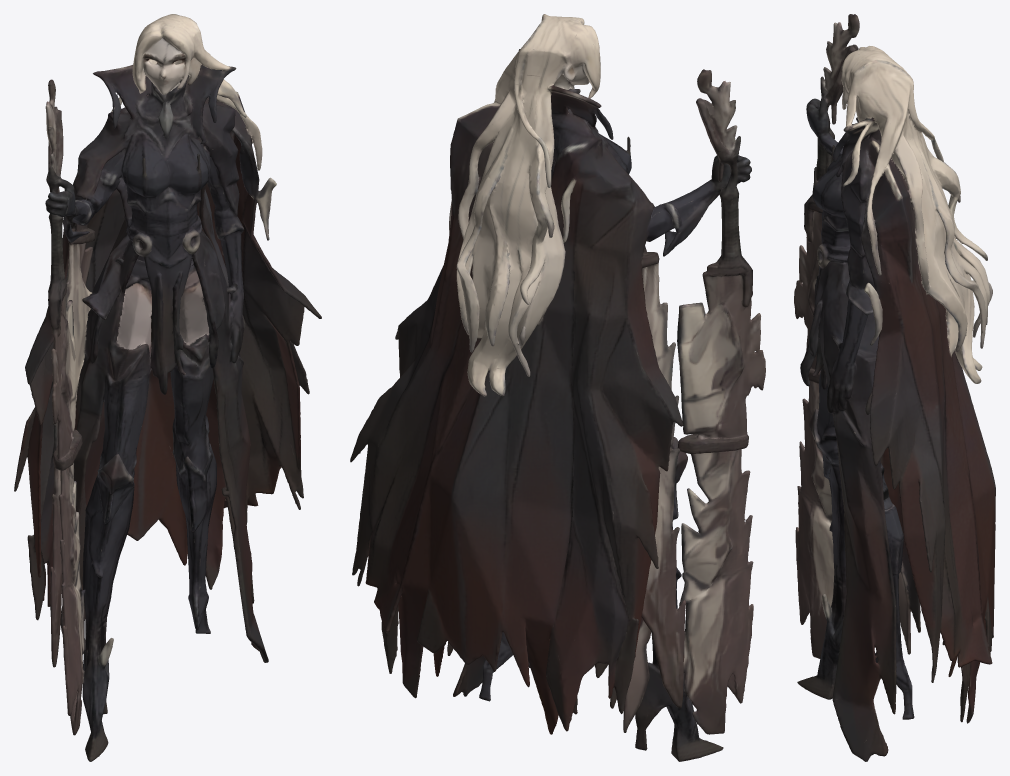
The model's file is vampwarrior_proxy.glb.
3 views of the same model, side by side, from view 1: azimuth 30°, elevation 25°; view 2: azimuth 150°, elevation 25°; view 3: azimuth 270°, elevation 25° (orthographic). The views are drawn at different scales.
Bounding box in the file's own units: 0.4809 × 0.9745 × 0.2591.
1 material, 1 textured.
